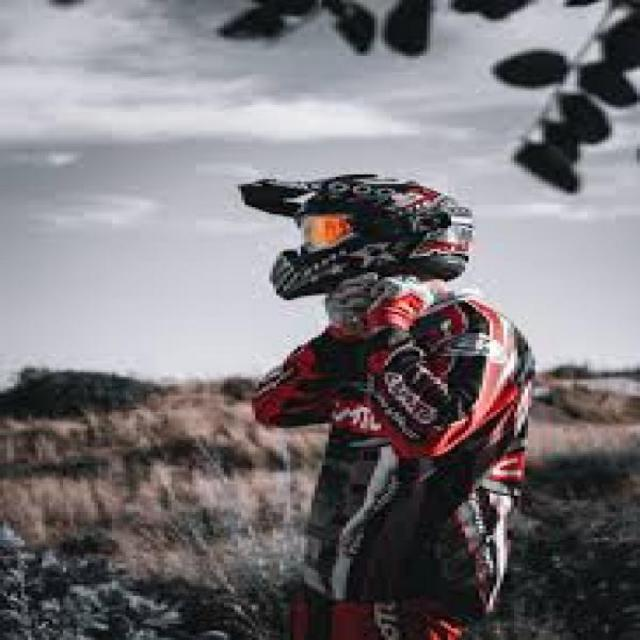Helmet: (234, 165, 476, 302)
